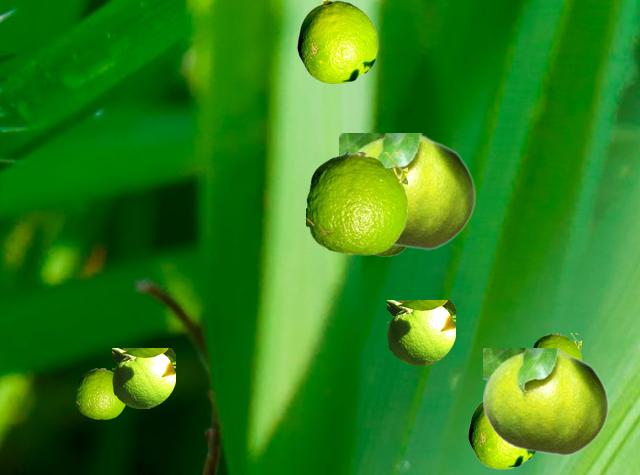dalandan: (339, 133, 475, 249), (483, 348, 608, 455), (306, 152, 406, 254), (297, 0, 377, 83), (468, 401, 535, 468), (387, 300, 454, 364), (112, 348, 174, 407), (76, 368, 125, 418), (533, 333, 580, 357), (373, 246, 406, 255)
